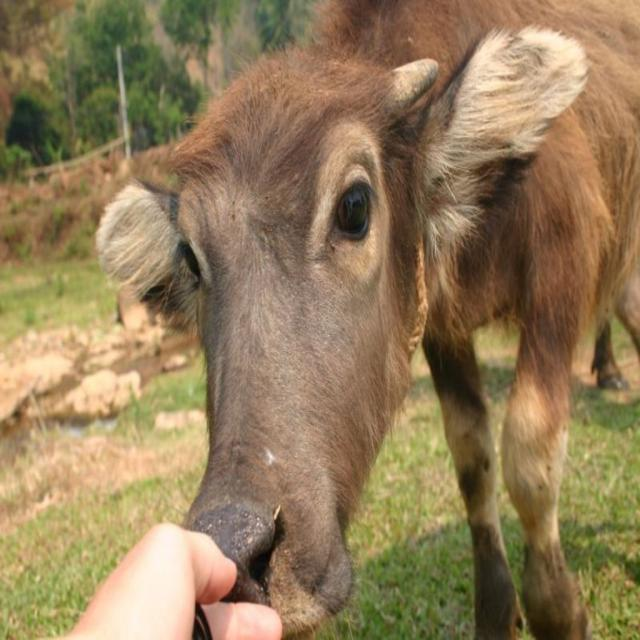Cattle: (94, 0, 640, 640)
